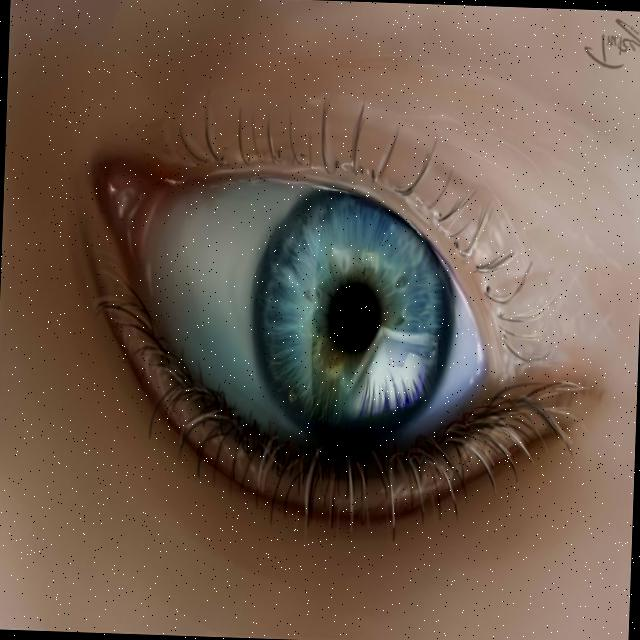Normal: (29, 132, 541, 538)
